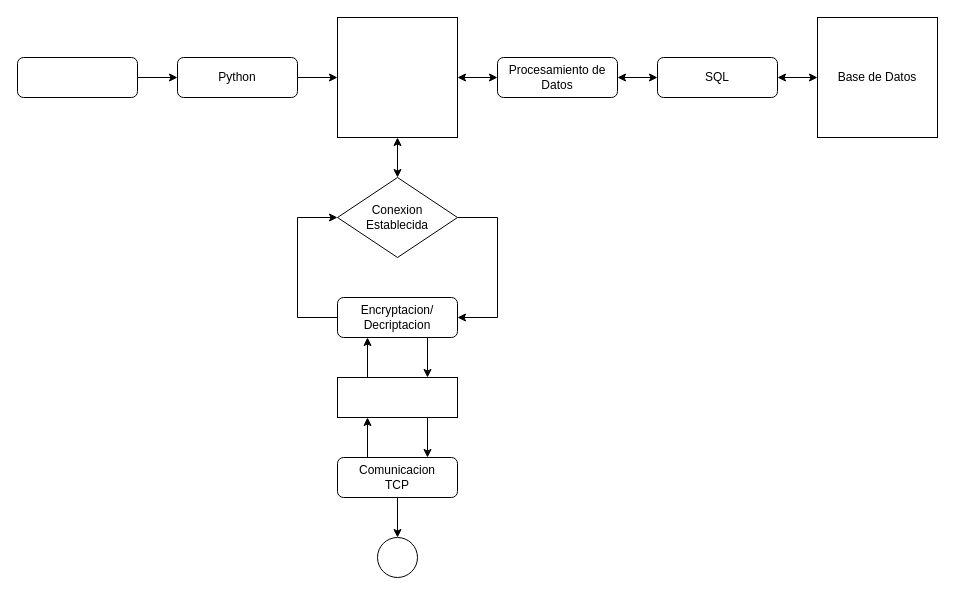
This 955x595 diagram has some shape labels left out. Each missing label, with the centre of its shape:
Logica y Programa: point 77,77
Ordenador: point 397,77
Tarjeta wi-fi: point 397,397
